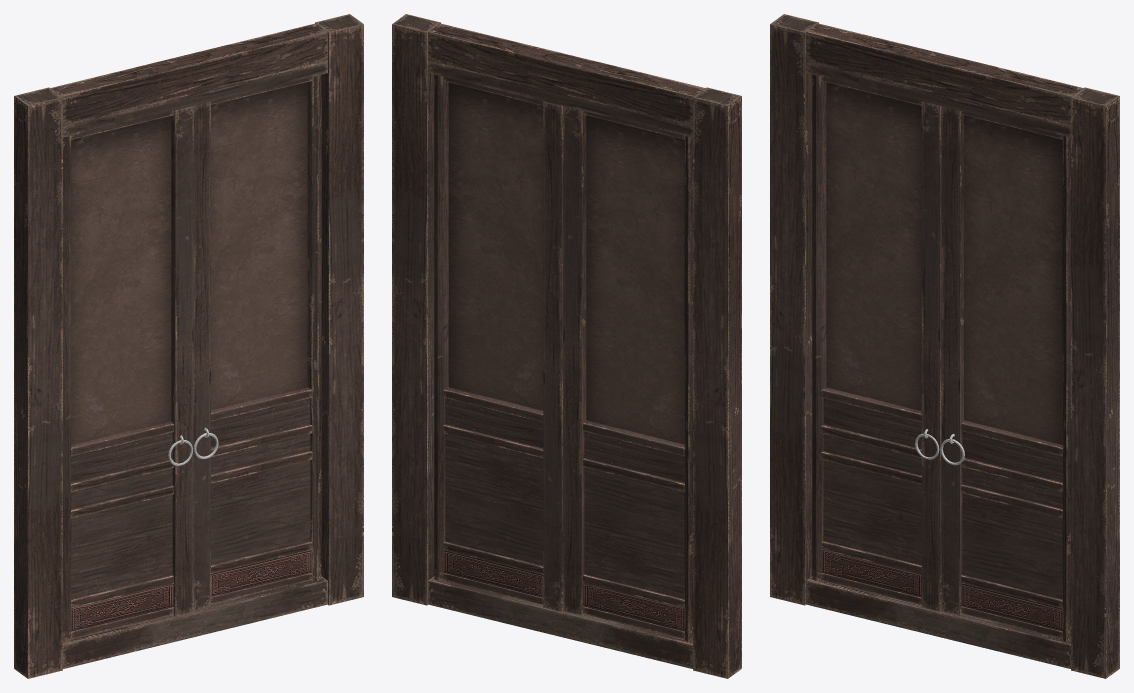
Rendered from Door_1.fbx.
The picture shows the model from 3 angles, left to right: view 1: azimuth 30°, elevation 25°; view 2: azimuth 150°, elevation 25°; view 3: azimuth 330°, elevation 25°; orthographic projection.
Parts seen in each view (by area): view 1: 3D_Door01.mo; view 2: 3D_Door01.mo; view 3: 3D_Door01.mo.
Boxes of the visible parts, <box> form: 3D_Door01.mo: <box>14,14,363,678</box>; 3D_Door01.mo: <box>392,14,741,678</box>; 3D_Door01.mo: <box>770,14,1119,678</box>.
Size of the model in its own units: 224 by 365 by 16.34.
